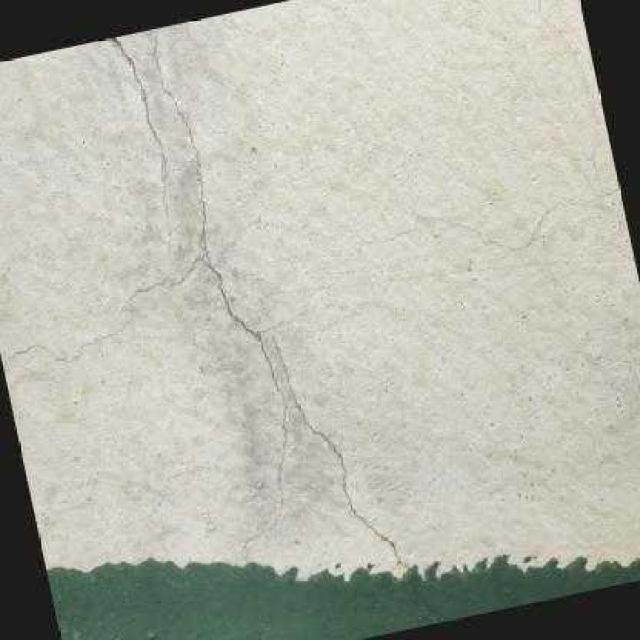D00: (147, 32, 293, 553), (265, 322, 441, 619), (110, 40, 181, 259)
